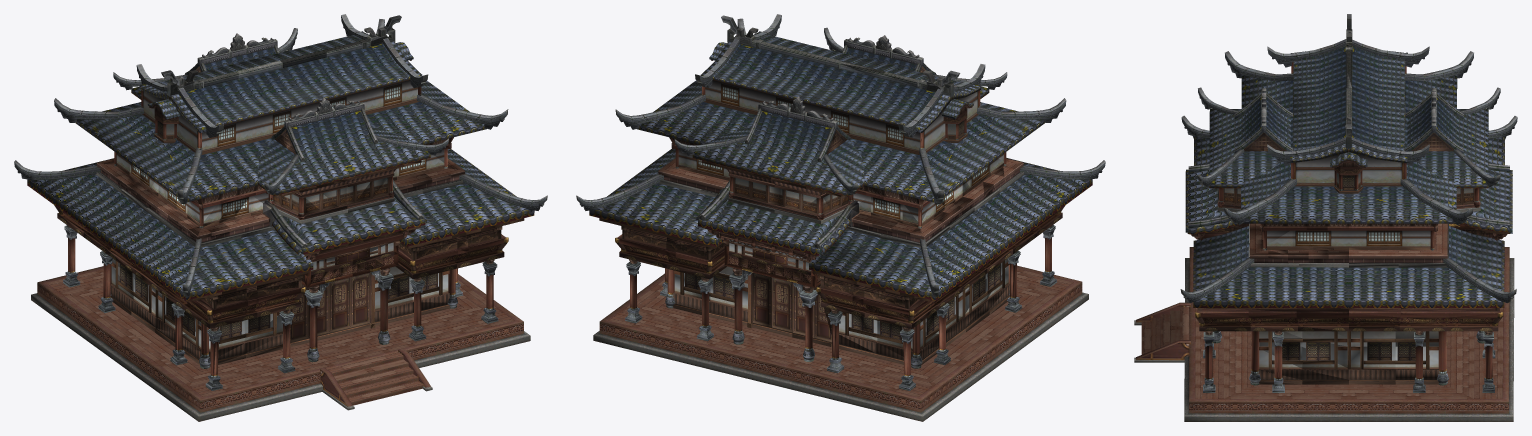
The model's file is S2_Build_XSC014.FBX.
3 renders of one model, left to right at view 1: azimuth 30°, elevation 25°; view 2: azimuth 150°, elevation 25°; view 3: azimuth 270°, elevation 25°, orthographic.
Parts seen in each view (by area): view 1: S2_Build_XSC014; view 2: S2_Build_XSC014; view 3: S2_Build_XSC014.
Part boxes in pixels (box(x1,y1,x2,y2)): S2_Build_XSC014: box(14, 14, 547, 421); S2_Build_XSC014: box(576, 14, 1105, 421); S2_Build_XSC014: box(1134, 14, 1517, 421).
Size of the model in its own units: 1752 by 1266 by 1618.
